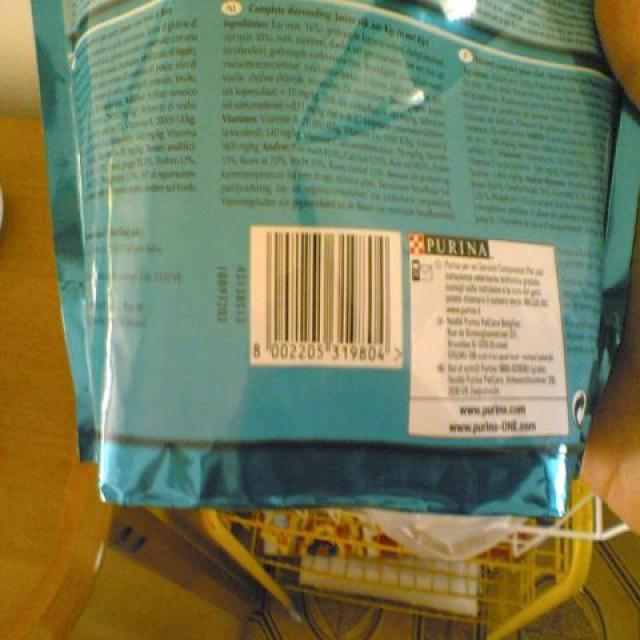Barcode: (246, 219, 405, 372)
